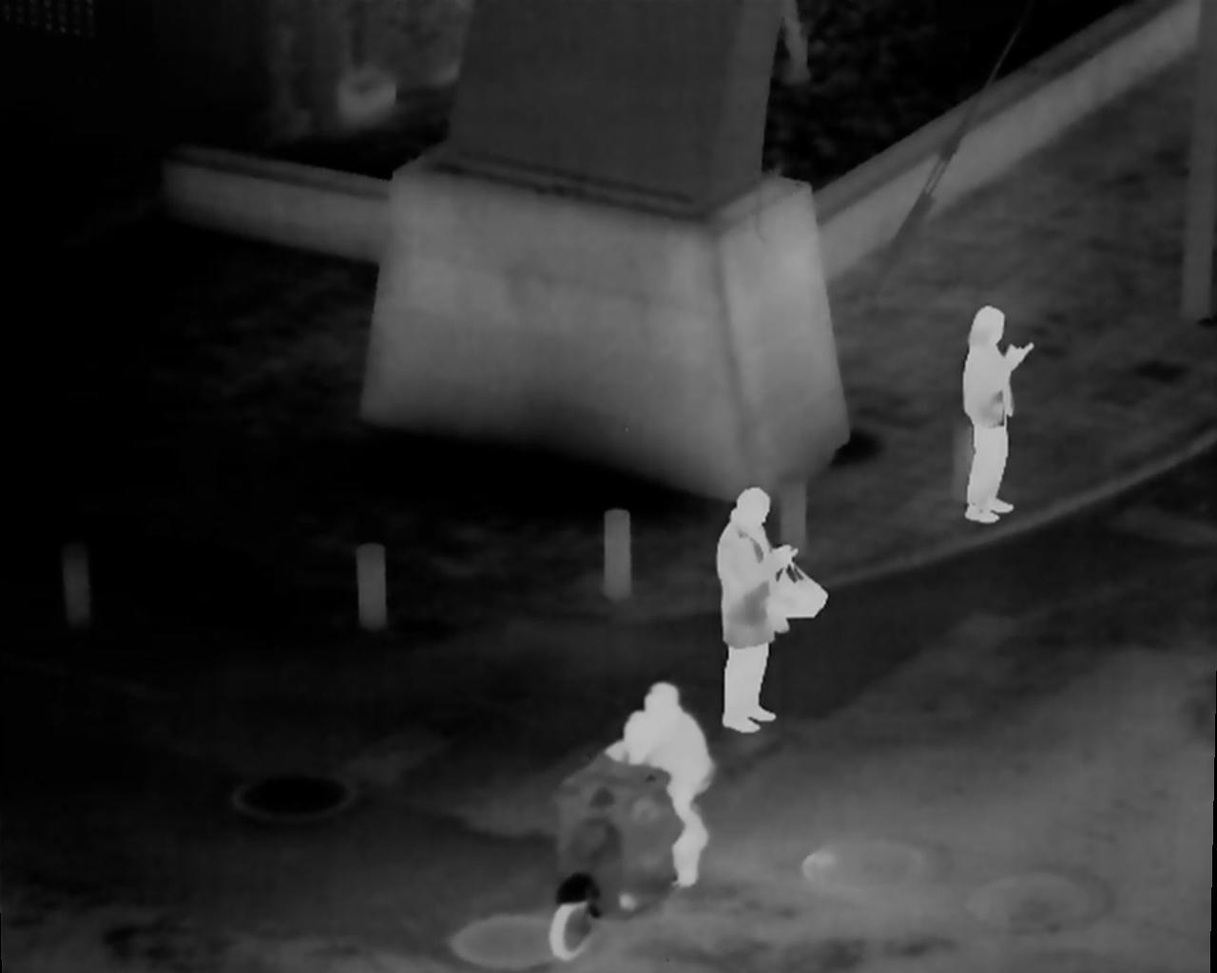person: (608, 683, 714, 892), (718, 488, 797, 736), (958, 305, 1036, 528)
